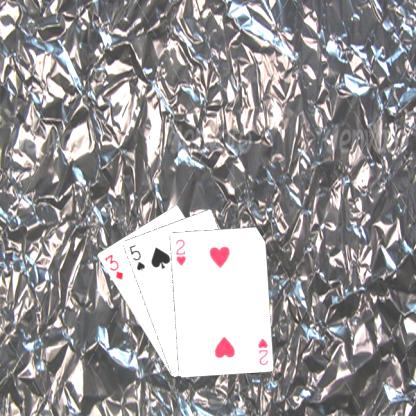2H: (172, 236, 187, 267), (255, 335, 269, 366)
3D: (100, 251, 124, 281)
5S: (126, 242, 146, 272)
